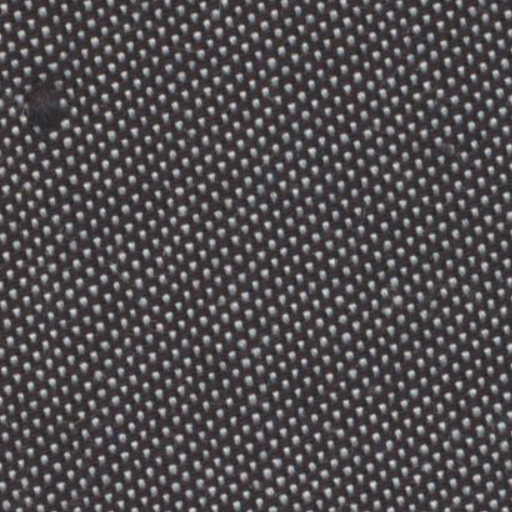MianQiu: (16, 62, 70, 143)
